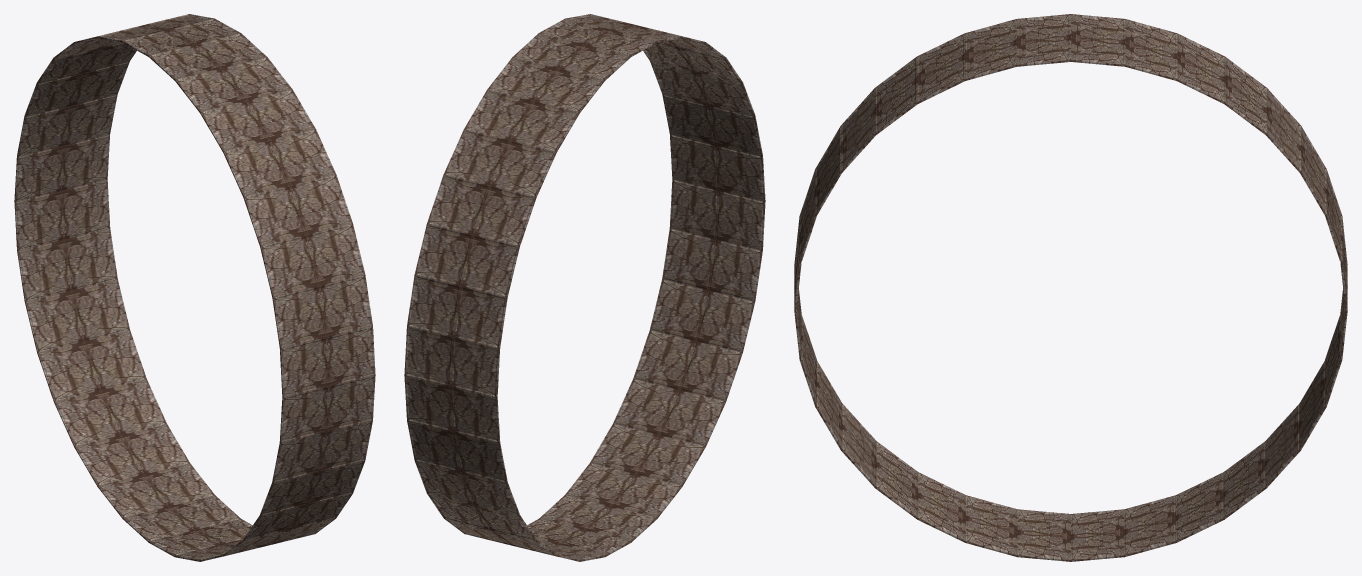
The model's file is tube_big_a.FBX.
The picture shows the model from 3 angles, left to right: view 1: azimuth 30°, elevation 25°; view 2: azimuth 150°, elevation 25°; view 3: azimuth 270°, elevation 25°; orthographic projection. The views are drawn at different scales.
Parts seen in each view (by area): view 1: tube_big_a; view 2: tube_big_a; view 3: tube_big_a.
Part boxes in pixels (x1,y1,x2,y2): tube_big_a: [14, 14, 375, 561]; tube_big_a: [404, 14, 765, 561]; tube_big_a: [794, 14, 1347, 561].
Bounding box in the file's own units: 4 × 20.14 × 20.14.
